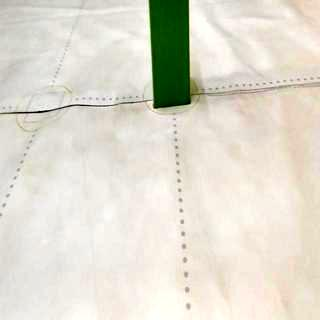greenbox: (148, 0, 194, 109)
